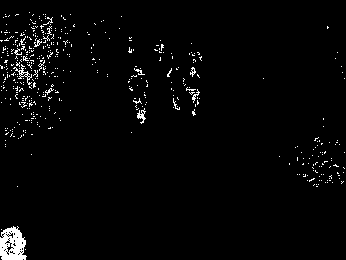person: (126, 66, 149, 126), (184, 67, 203, 119), (163, 65, 183, 112)
